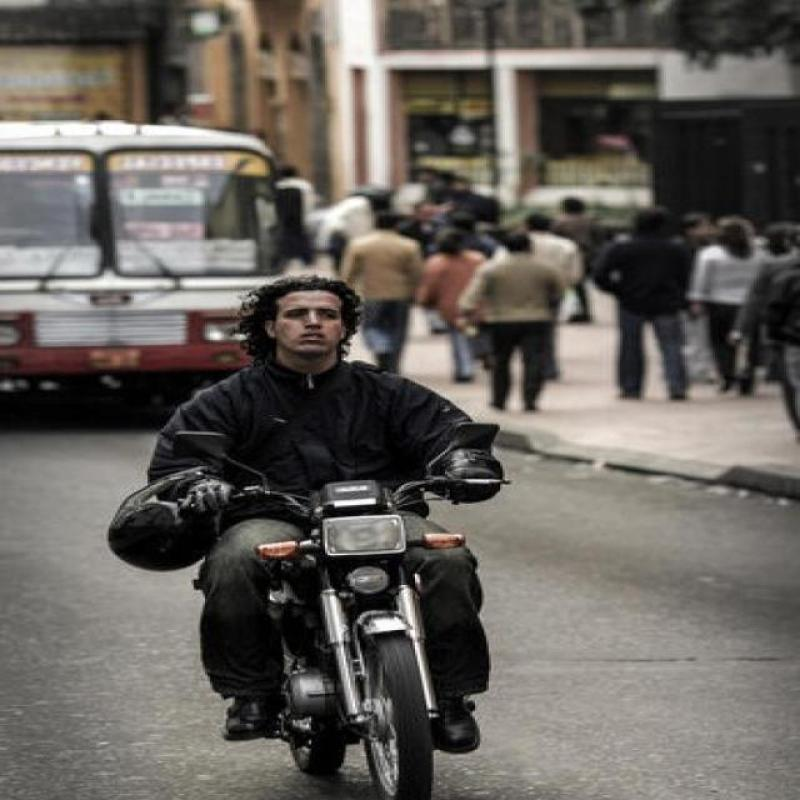nohelmet: (242, 272, 376, 360)
